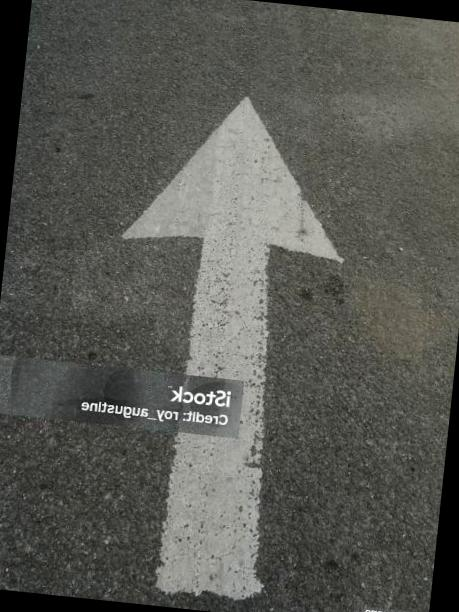faded_road_lines: (84, 73, 376, 612)
